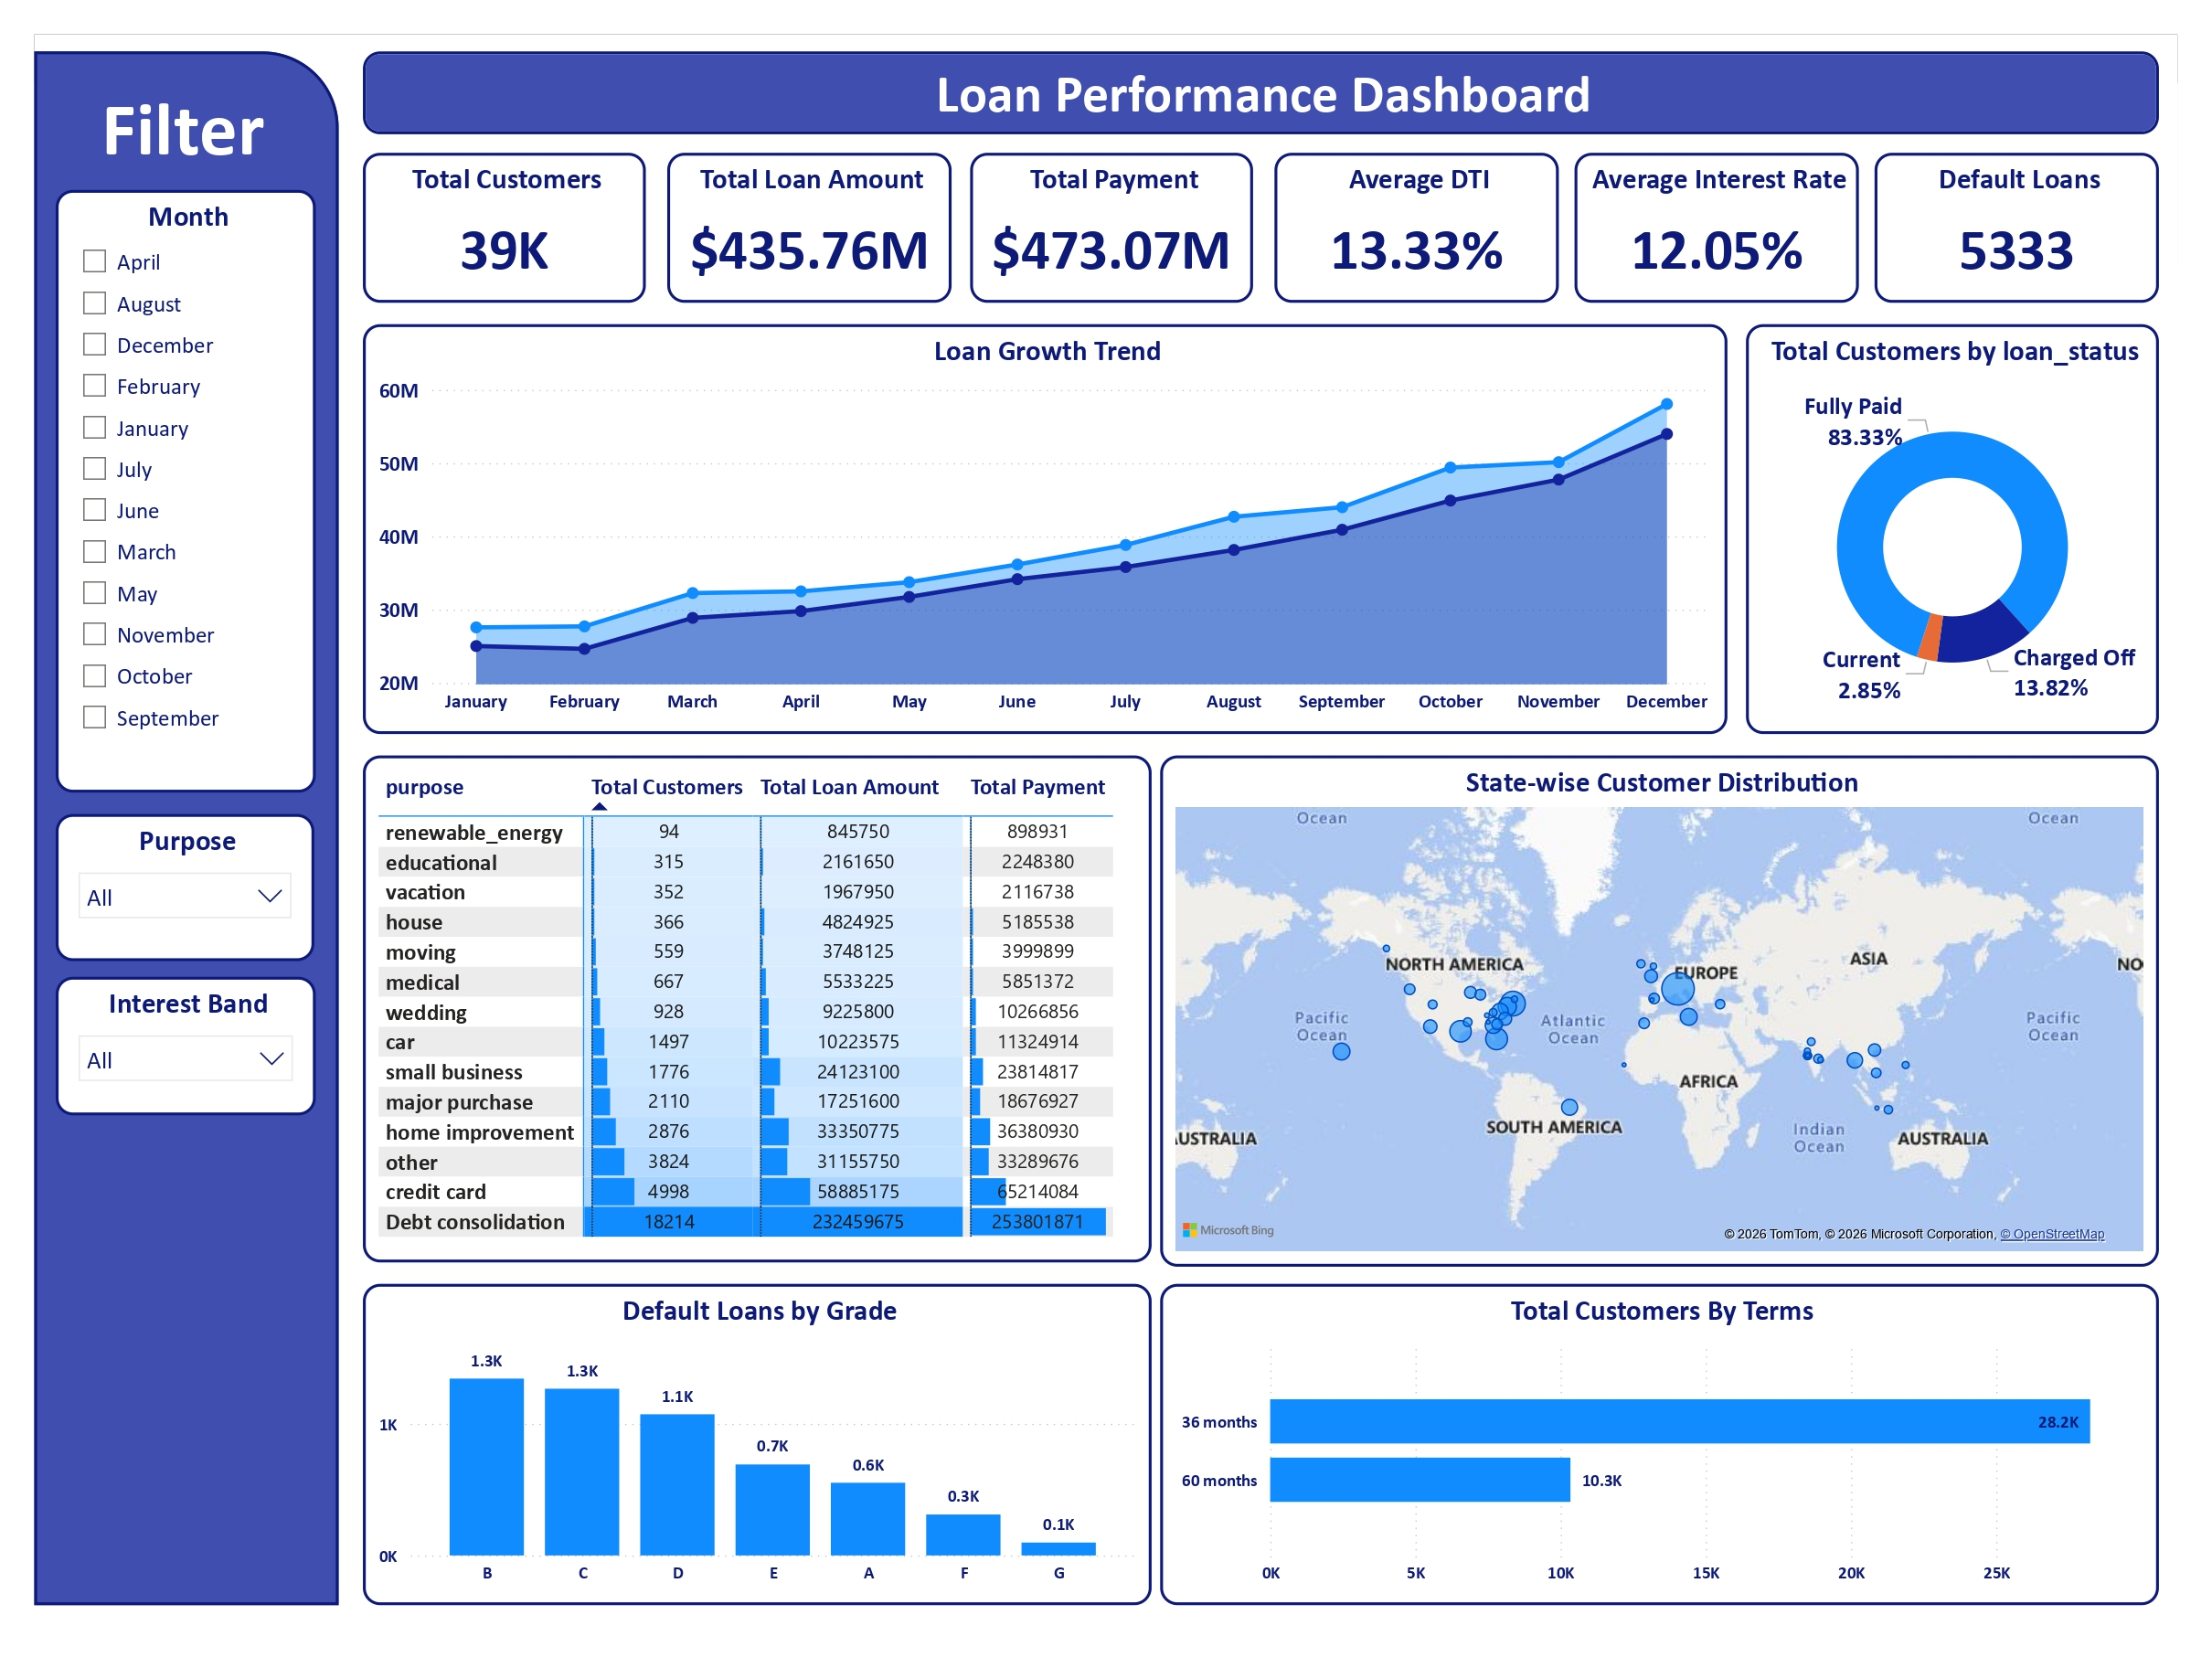

Layout of this report page (visuals, bound fields, positions):
{"tool":"powerbi","page":{"name":"Overview","canvas":[1500,1120],"ordinal":0},"visuals":[{"type":"card","title":"Total Customers","fields":{"Values":["loan.Total Customers"]},"box":[230,83.3,198.3,105],"z":0},{"type":"card","title":"Default Loans","fields":{"Values":["loan.Default Loans"]},"box":[1288.3,83.3,198.3,105],"z":1000},{"type":"card","title":"Average Interest Rate","fields":{"Values":["loan.Avg Interest Rate"]},"box":[1078.3,83.3,198.3,105],"z":2000},{"type":"card","title":"Average DTI","fields":{"Values":["loan.Avg DTI"]},"box":[868.3,83.3,198.3,105],"z":3000},{"type":"card","title":"Total Payment","fields":{"Values":["loan.Total Payment"]},"box":[655,83.3,198.3,105],"z":4000},{"type":"card","title":"Total Loan Amount","fields":{"Values":["loan.Total Loan Amount"]},"box":[443.3,83.3,198.3,105],"z":5000},{"type":"areaChart","title":"Loan Growth Trend","fields":{"Category":["loan.issue_date.Variation.Date Hierarchy.Month"],"Y":["loan.Total Payment","loan.Total Loan Amount"]},"box":[230,203.3,955,286.7],"z":6000},{"type":"donutChart","fields":{"Category":["loan.loan_status"],"Y":["loan.Total Customers"]},"box":[1198.3,203.3,288.3,286.7],"z":7000},{"type":"pivotTable","title":"Loan Purpose Analysis","fields":{"Rows":["loan.purpose"],"Values":["loan.Total Customers","loan.Total Loan Amount","loan.Total Payment"]},"box":[230,505,551.7,355],"z":8000},{"type":"columnChart","title":"Default Loans by Grade","fields":{"Category":["loan.grade"],"Y":["loan.Default Loans"]},"box":[230,875,551.7,225],"z":9000},{"type":"map","title":"State-wise Customer Distribution","fields":{"Category":["loan.address_state"],"Size":["loan.Total Customers"]},"box":[788.3,505,698.3,358.3],"z":10000},{"type":"clusteredBarChart","title":" Total Customers By Terms ","fields":{"Y":["loan.Total Customers"],"Category":["loan.term"]},"box":[788.3,875,698.3,225],"z":11000},{"type":"shape","box":[0,11.7,213.3,1088.3],"z":12000},{"type":"textbox","box":[14.7,27.9,177.9,80.9],"z":13000},{"type":"slicer","title":"Month","fields":{"Values":["loan.Month"]},"box":[14.7,108.8,182.4,422.1],"z":14000},{"type":"slicer","title":"Purpose","fields":{"Values":["loan.purpose"]},"box":[14.7,545.6,180.9,102.9],"z":15000},{"type":"slicer","title":"Interest Band","fields":{"Values":["loan.Interest Band"]},"box":[14.7,660.3,182.4,97.1],"z":16000},{"type":"textbox","title":"Loan Performance Dashboard","box":[230,11.7,1256.7,58.3],"z":17000}]}

Visuals, with their boxes in screenshot pixels (x1, y1, x2, y2):
"Total Customers" card: detection(357, 144, 646, 297)
"Default Loans" card: detection(1897, 144, 2185, 297)
"Average Interest Rate" card: detection(1591, 144, 1879, 297)
"Average DTI" card: detection(1286, 144, 1574, 297)
"Total Payment" card: detection(975, 144, 1264, 297)
"Total Loan Amount" card: detection(668, 144, 956, 297)
"Loan Growth Trend" areaChart: detection(357, 319, 1747, 736)
donutChart - loan.loan_status x loan.Total Customers: detection(1766, 319, 2185, 736)
"Loan Purpose Analysis" pivotTable: detection(357, 758, 1160, 1273)
"Default Loans by Grade" columnChart: detection(357, 1295, 1160, 1622)
"State-wise Customer Distribution" map: detection(1169, 758, 2185, 1279)
" Total Customers By Terms " clusteredBarChart: detection(1169, 1295, 2185, 1622)
shape: detection(23, 40, 334, 1622)
textbox: detection(45, 64, 303, 181)
"Month" slicer: detection(45, 181, 310, 795)
"Purpose" slicer: detection(45, 816, 307, 966)
"Interest Band" slicer: detection(45, 983, 310, 1124)
"Loan Performance Dashboard" textbox: detection(357, 40, 2185, 125)
